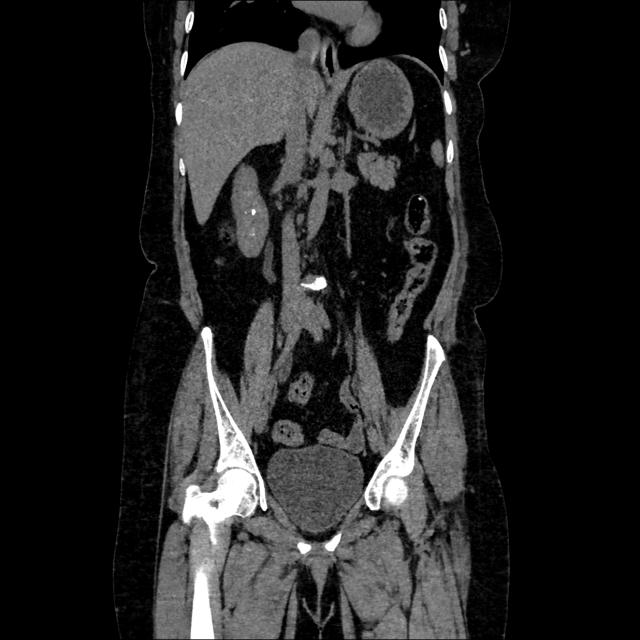kidney: (236, 171, 268, 251)
stone: (252, 209, 256, 215), (245, 212, 247, 214)
